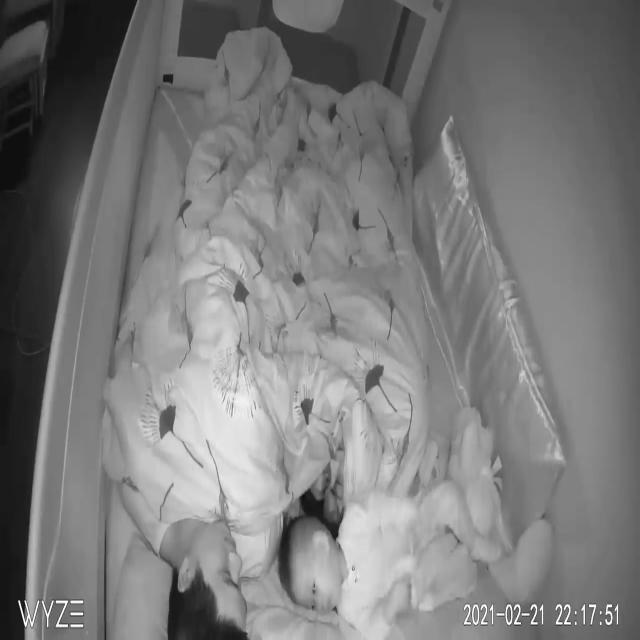baby: (281, 0, 500, 640)
